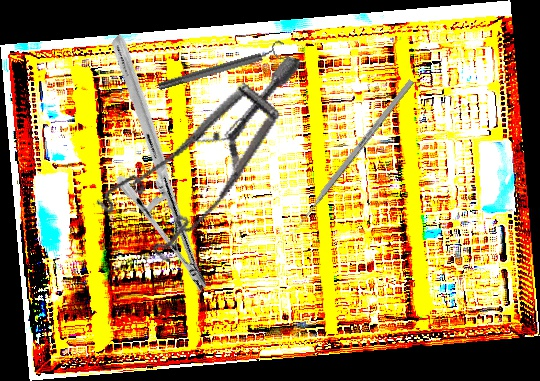Fixation Ring: (155, 39, 289, 96)
Needle Holder: (26, 33, 293, 294)
Pusher: (288, 78, 415, 237)
Speculum: (85, 16, 304, 283)
